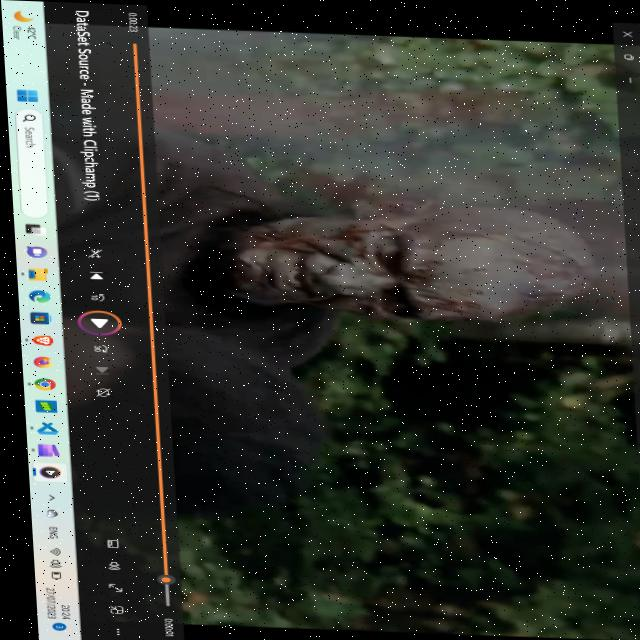Zombie: (220, 188, 589, 337)
